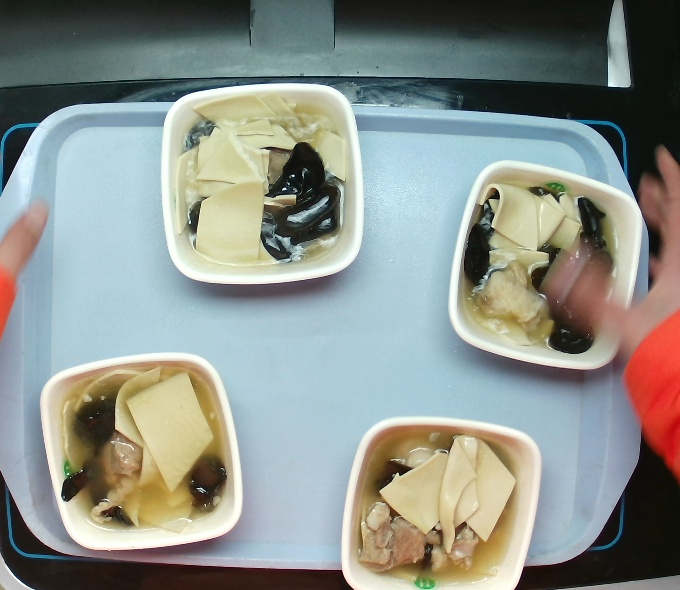wcq-QianZhangMuErTang: (445, 148, 644, 377), (40, 341, 246, 559), (189, 84, 345, 285), (355, 428, 522, 580)
